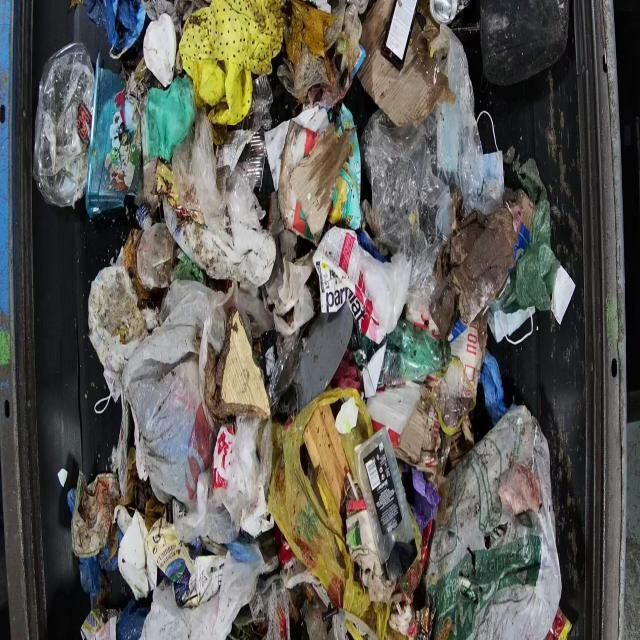E-waste: (42, 0, 571, 638)
